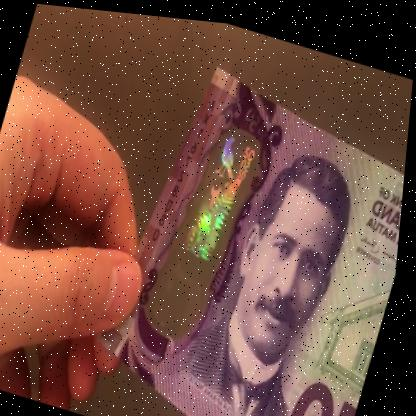50F: (156, 115, 264, 333)
